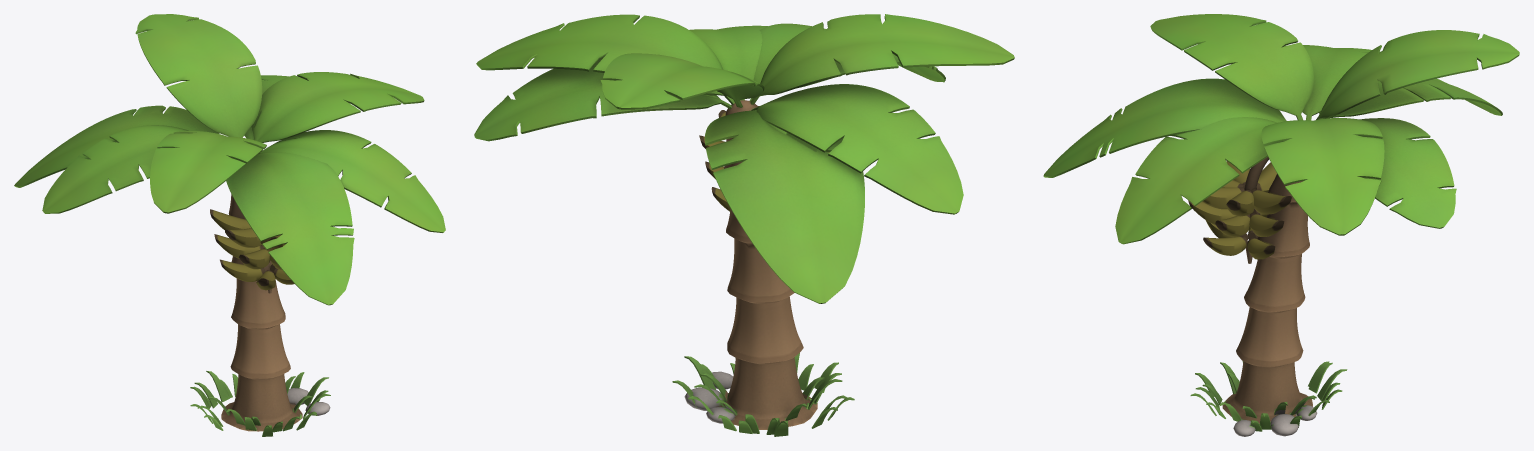
The model's file is SK_BananaTree_B.fbx.
3 renders of one model, left to right at view 1: azimuth 30°, elevation 25°; view 2: azimuth 150°, elevation 25°; view 3: azimuth 270°, elevation 25°, orthographic. The views are drawn at different scales.
Visible parts, largest first — view 1: SK_BananaTree_B; view 2: SK_BananaTree_B; view 3: SK_BananaTree_B.
Boxes of the visible parts, x1,y1,x2,y2 form: SK_BananaTree_B: (14,14,445,436); SK_BananaTree_B: (474,14,1014,436); SK_BananaTree_B: (1043,14,1519,436).
Size of the model in its own units: 523 by 431 by 511.
